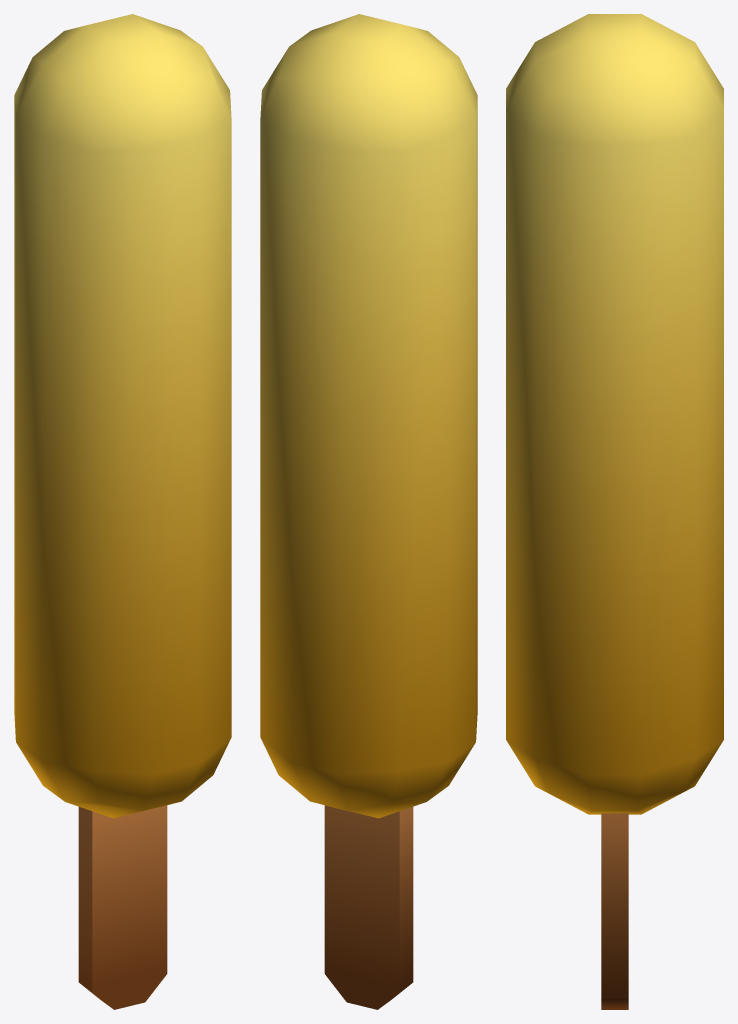
Rendered from m_PopsicleStick08.fbx.
3 renders of one model, left to right at view 1: azimuth 30°, elevation 25°; view 2: azimuth 150°, elevation 25°; view 3: azimuth 270°, elevation 25°, orthographic.
Visible parts, largest first — view 1: m_PopsicleStick08; view 2: m_PopsicleStick08; view 3: m_PopsicleStick08.
Part boxes in pixels (x1=…): m_PopsicleStick08: x1=14, y1=14, x2=231, y2=1009; m_PopsicleStick08: x1=260, y1=14, x2=477, y2=1009; m_PopsicleStick08: x1=506, y1=14, x2=723, y2=1009.
Bounding box in the file's own units: 4.64 × 22.99 × 4.64.
